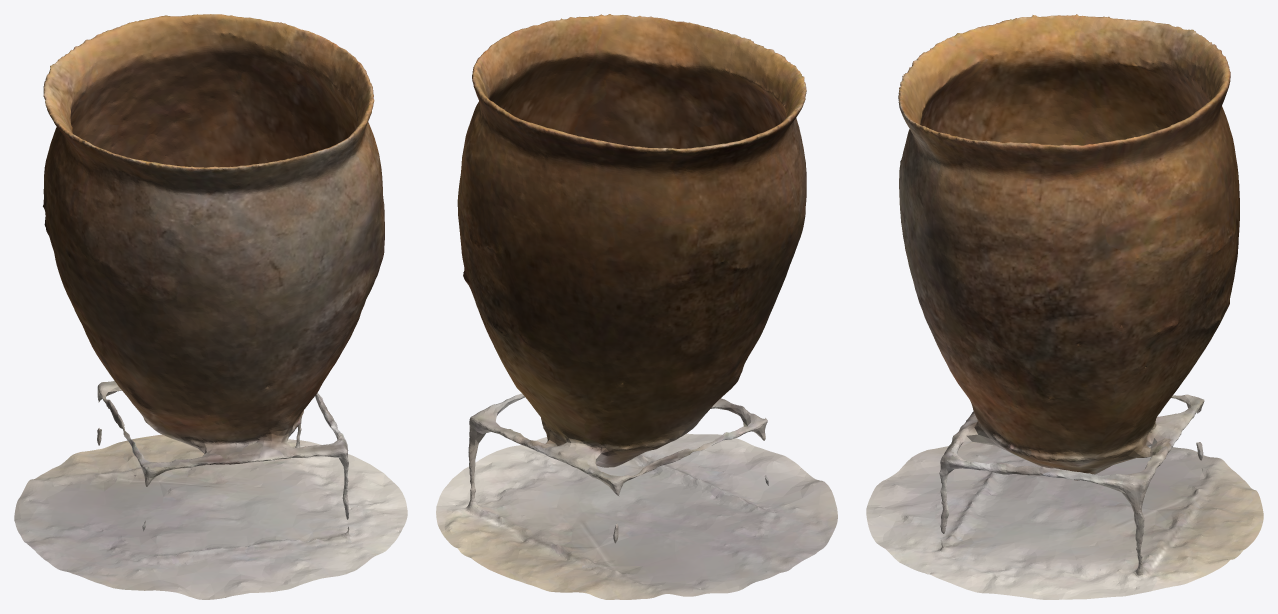
File: Kitagoiseki.glb
The picture shows the model from 3 angles, left to right: view 1: azimuth 30°, elevation 25°; view 2: azimuth 150°, elevation 25°; view 3: azimuth 270°, elevation 25°; orthographic projection. The views are drawn at different scales.
Visible parts, largest first — view 1: mesh; view 2: mesh; view 3: mesh.
Boxes of the visible parts, x1,y1,x2,y2 form: mesh: [14, 14, 407, 599]; mesh: [436, 14, 837, 599]; mesh: [866, 14, 1263, 599].
Bounding box in the file's own units: 0.3845 × 0.4698 × 0.378.
Materials: 1 (1 with a texture image).
